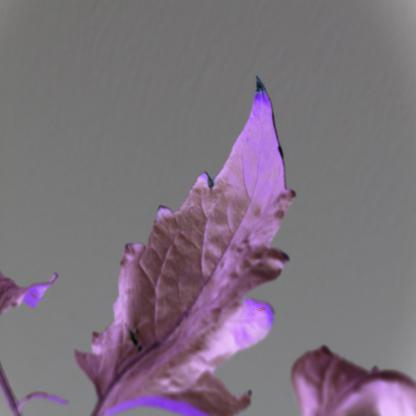Tomato leaf: (71, 69, 295, 407)
